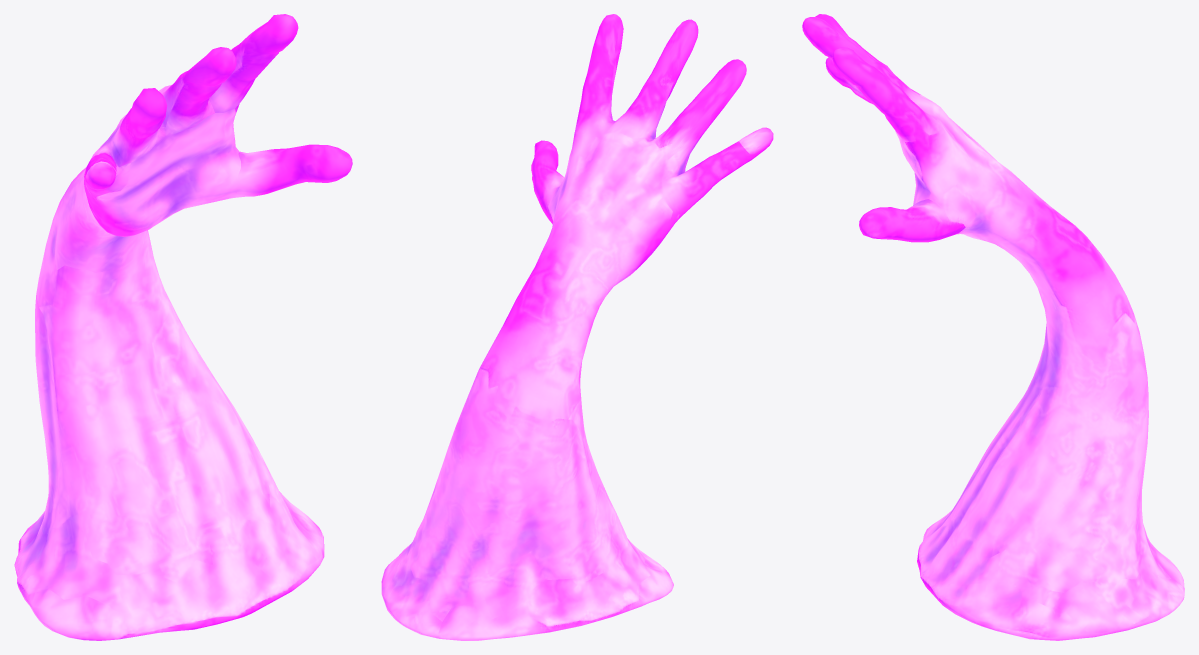
Rendered from MZ4250 - Mage Hand_purple.glb.
The picture shows the model from 3 angles, left to right: view 1: azimuth 30°, elevation 25°; view 2: azimuth 150°, elevation 25°; view 3: azimuth 270°, elevation 25°; orthographic projection. The views are drawn at different scales.
Parts seen in each view (by area): view 1: Hand open.001; view 2: Hand open.001; view 3: Hand open.001.
Part boxes in pixels (x1,y1,x2,y2): Hand open.001: (14,14,352,640); Hand open.001: (381,14,773,640); Hand open.001: (802,14,1184,640).
Size of the model in its own units: 0.3569 by 0.6318 by 0.4072.
Materials: 1 (1 with a texture image).
